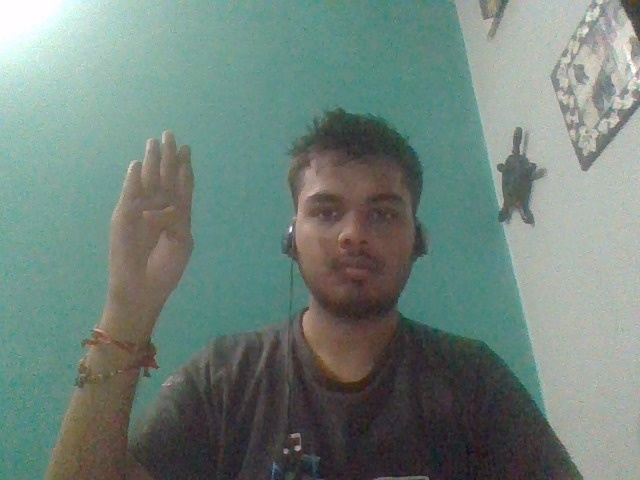hello: (107, 129, 195, 306)
